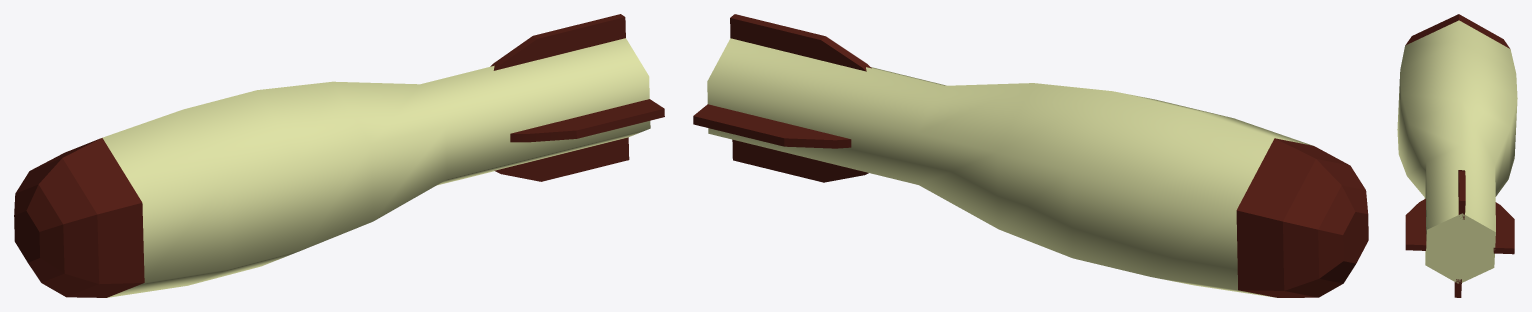
Rendered from Bomb_1.FBX.
3 renders of one model, left to right at view 1: azimuth 30°, elevation 25°; view 2: azimuth 150°, elevation 25°; view 3: azimuth 270°, elevation 25°, orthographic. The views are drawn at different scales.
Visible parts, largest first — view 1: Cylinder152, Bomb1; view 2: Cylinder152, Bomb1; view 3: Cylinder152, Bomb1.
Boxes of the visible parts, bbox=[...] form: Cylinder152: bbox=[102, 38, 650, 297]; Bomb1: bbox=[14, 14, 664, 297]; Cylinder152: bbox=[707, 38, 1312, 297]; Bomb1: bbox=[693, 14, 1368, 297]; Cylinder152: bbox=[1397, 20, 1517, 283]; Bomb1: bbox=[1405, 14, 1514, 297].
Size of the model in its own units: 5.53 by 1.53 by 1.39.
